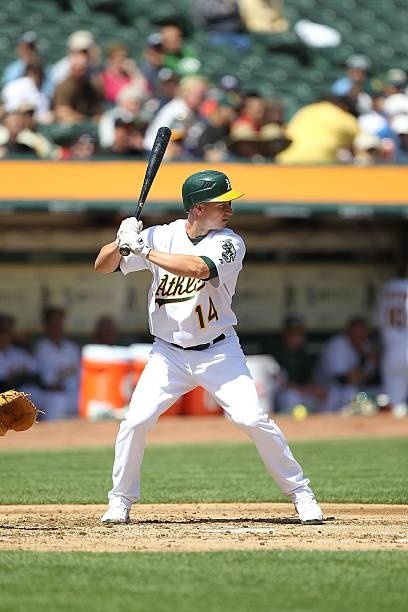bita: (130, 127, 170, 236)
